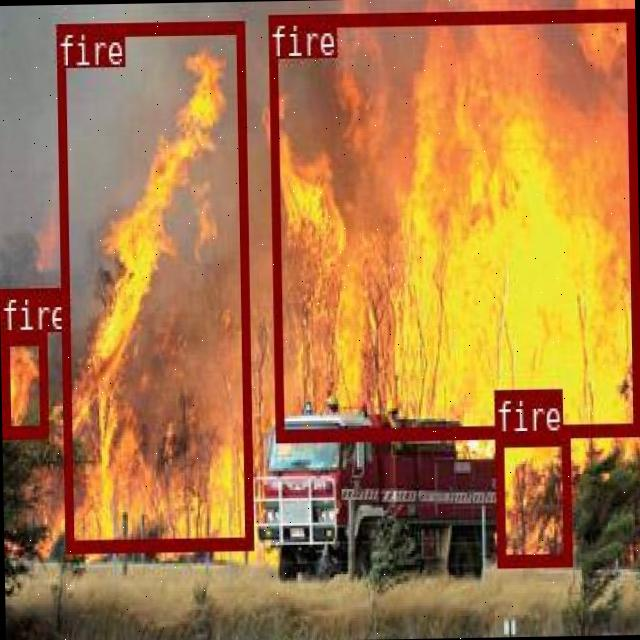fire: (267, 6, 638, 438), (55, 19, 252, 548), (494, 433, 569, 565), (0, 328, 47, 434)
